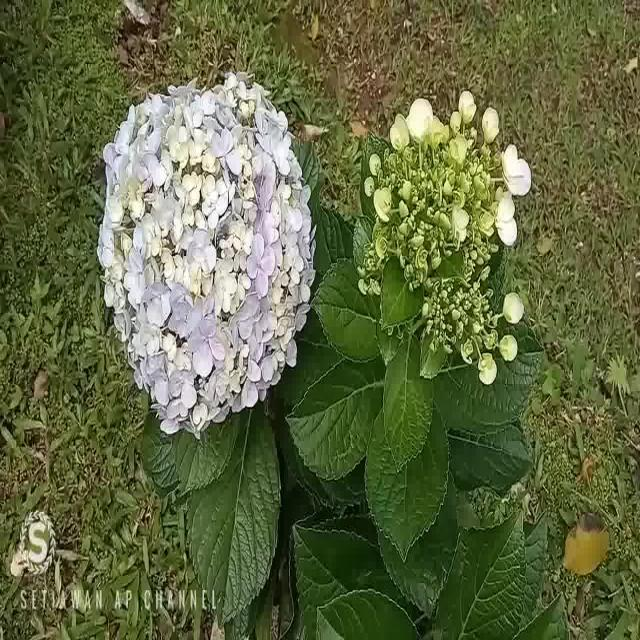Flower: (97, 60, 315, 429), (349, 85, 539, 411)
